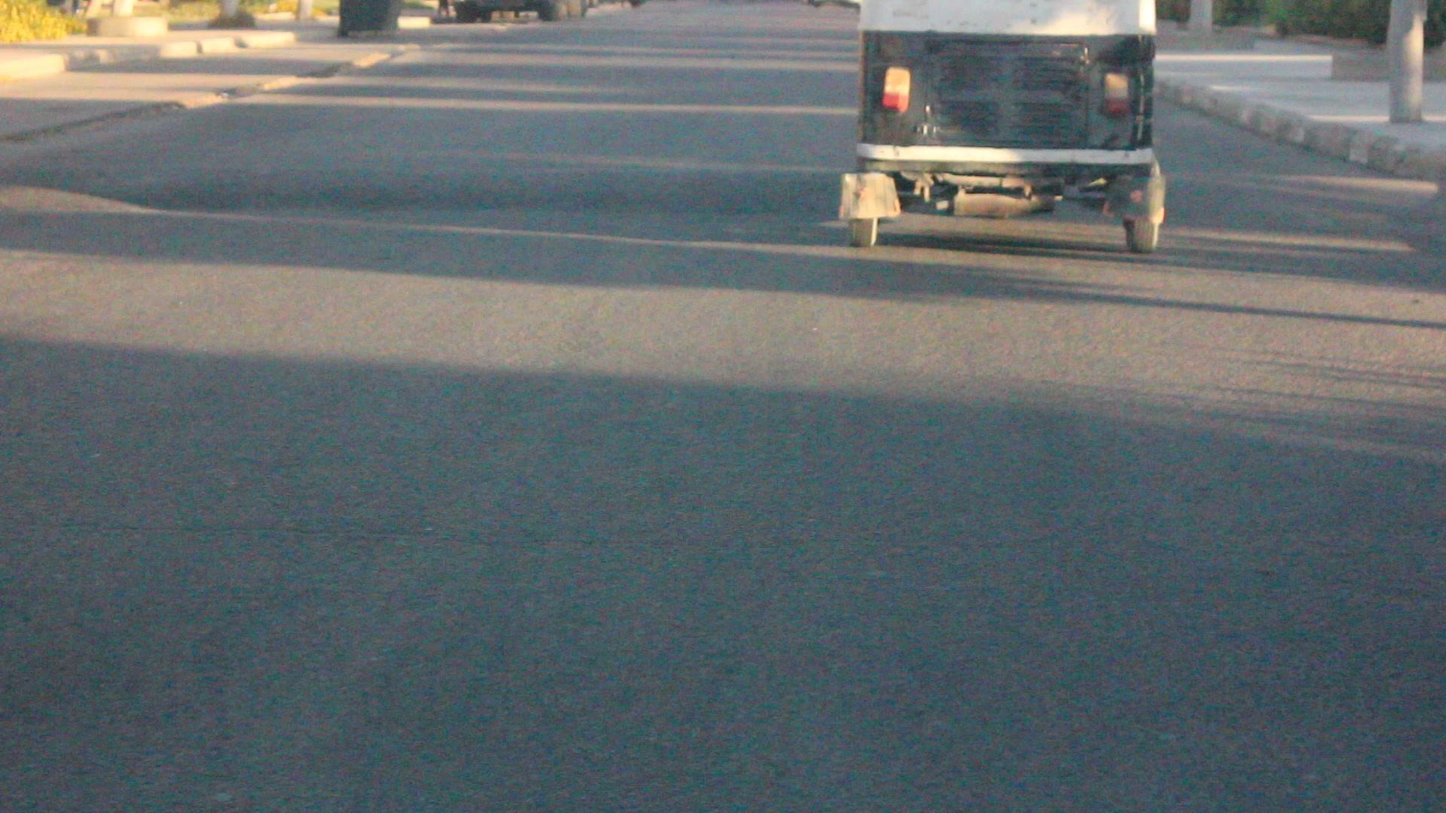Bump: (2, 162, 840, 230), (1165, 162, 1446, 241)
